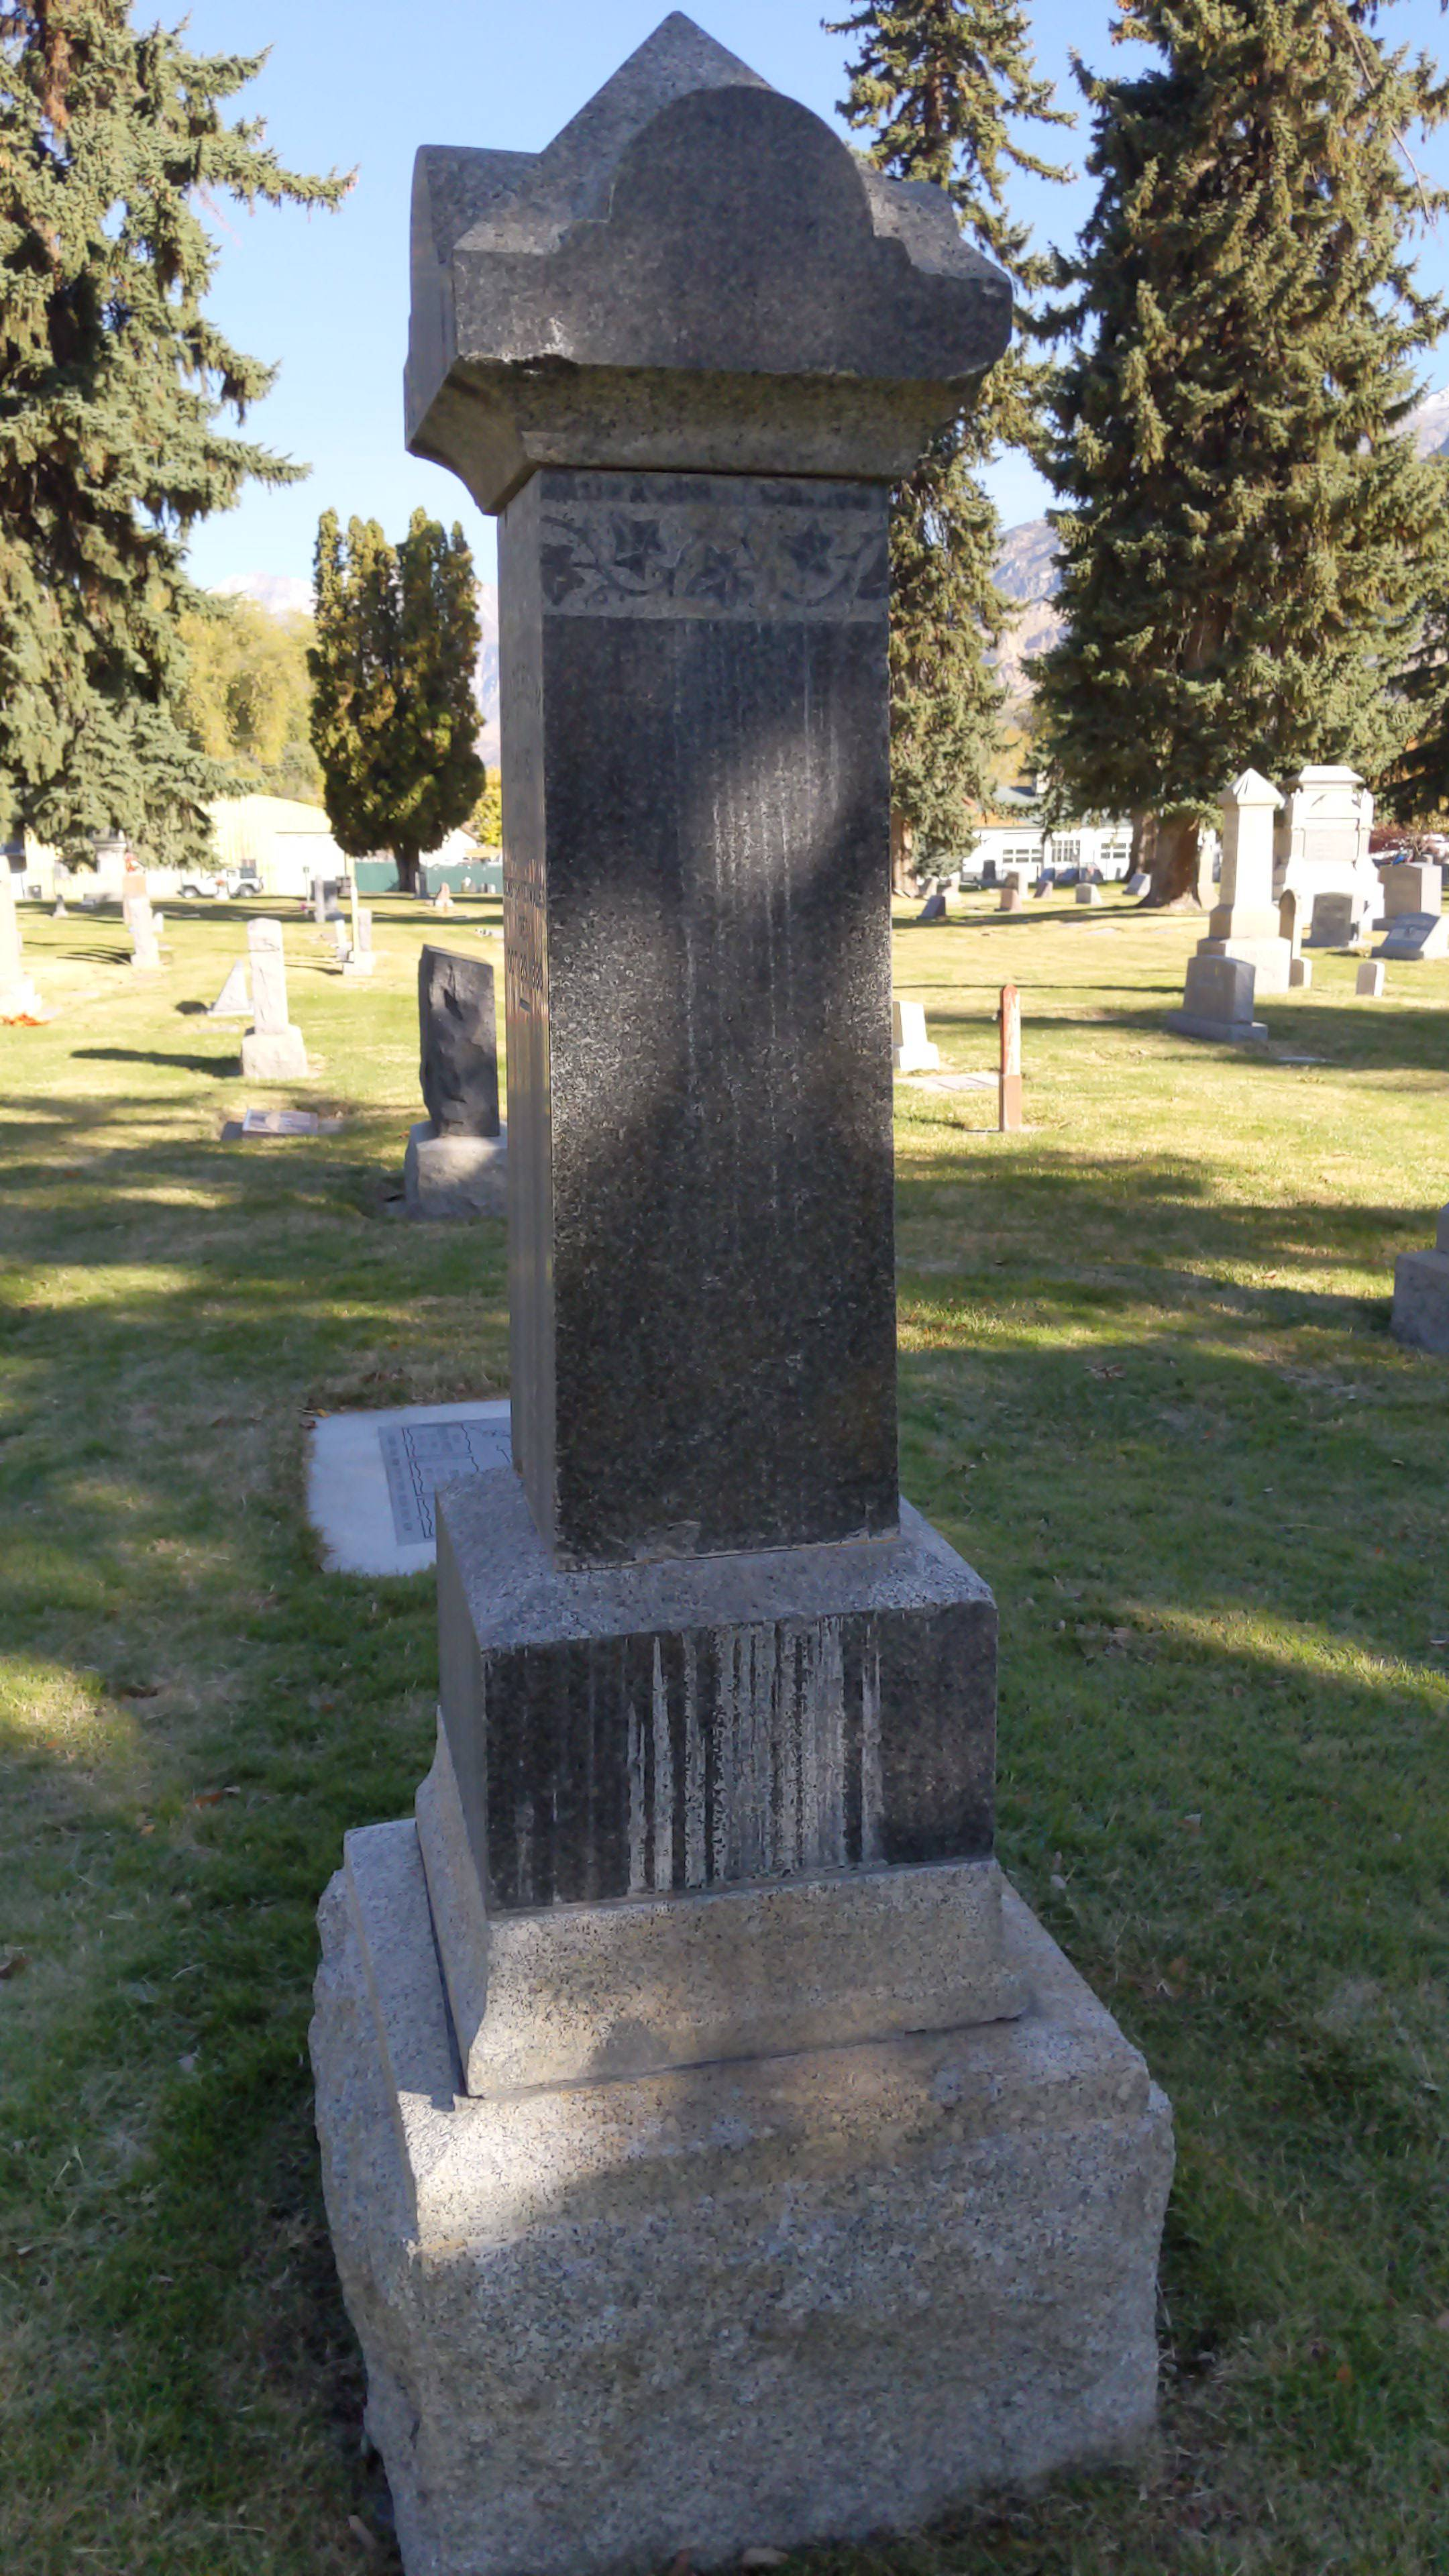obelisk: (412, 12, 1049, 2111)
